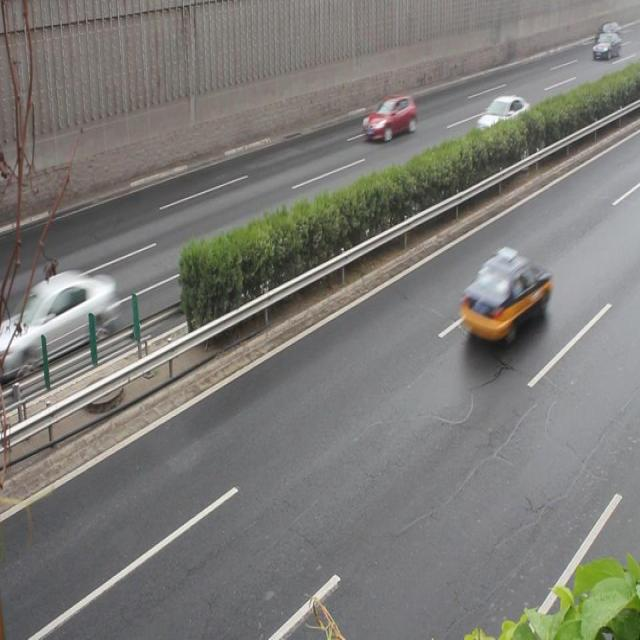car: (16, 271, 113, 369), (458, 249, 547, 344), (362, 93, 416, 144), (474, 94, 526, 144)
